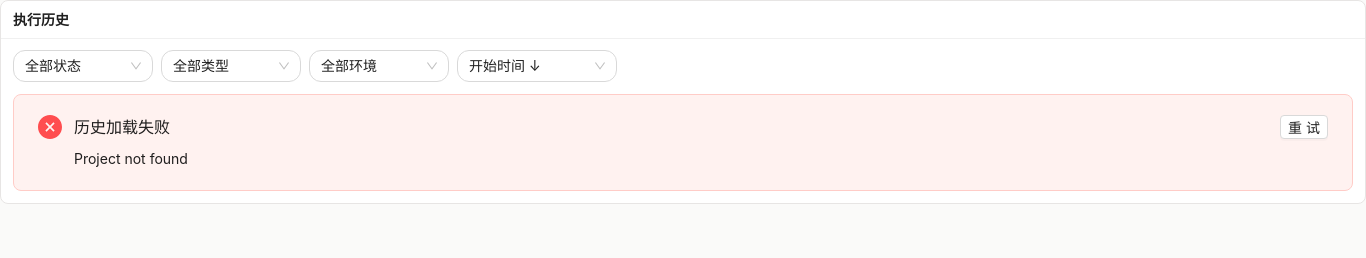
Test: ExecutionHistory › 列表 404 展示 detail 并可重试
Expected: the message shows "Project not found", [74,150,188,167]
Click the button named "重试": (1304, 127) [1280,115,1328,139]
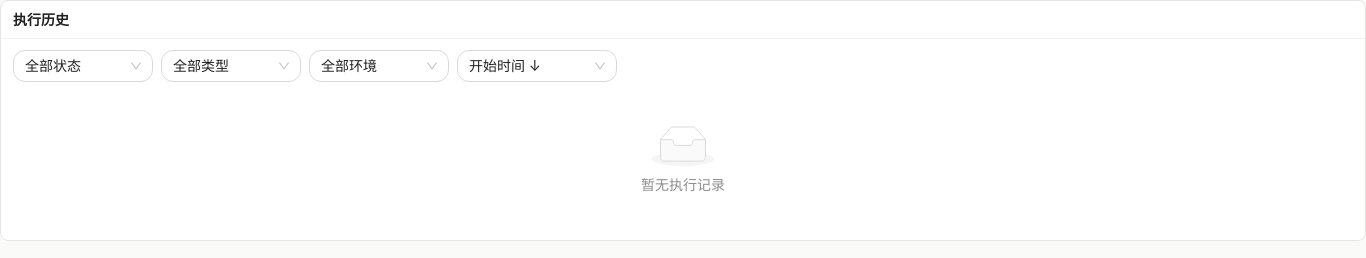
Result: the text "暂无执行记录" is shown at [641,176,725,193]
